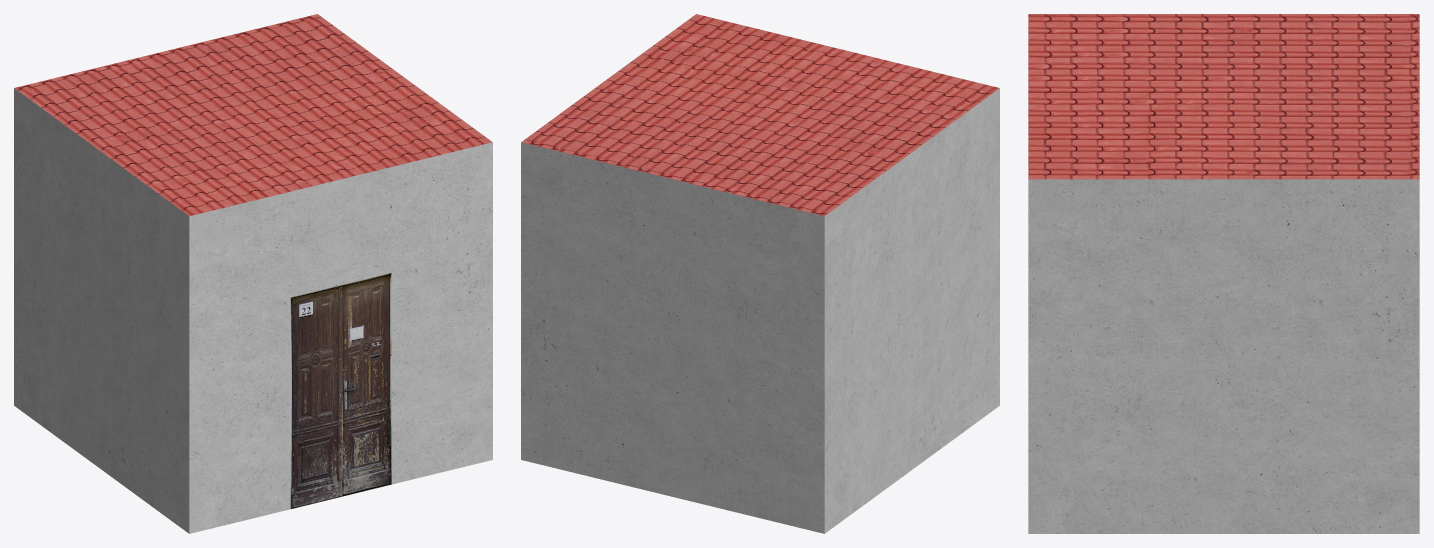
File: BuildingTest.fbx
3 views of the same model, side by side, from view 1: azimuth 30°, elevation 25°; view 2: azimuth 150°, elevation 25°; view 3: azimuth 270°, elevation 25° (orthographic). The views are drawn at different scales.
Parts seen in each view (by area): view 1: Building0; view 2: Building0; view 3: Building0.
Boxes of the visible parts, <box> form: Building0: <box>14,14,492,533</box>; Building0: <box>521,14,999,533</box>; Building0: <box>1028,14,1419,533</box>.
Size of the model in its own units: 2 by 2 by 2.
